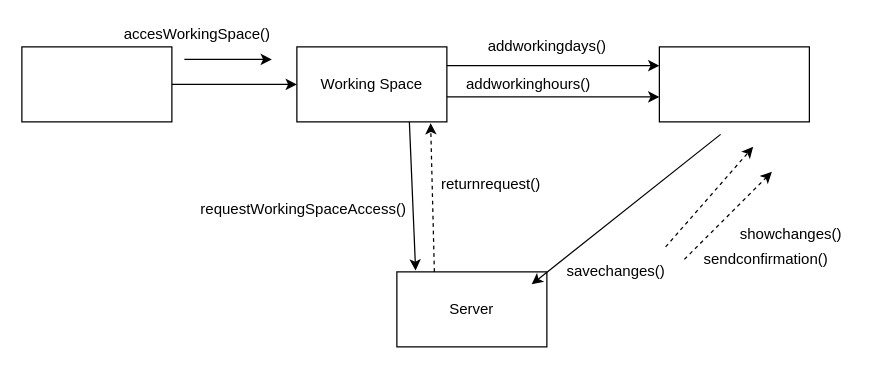
The diagram is 875 pixels wide and 369 high, and some of its shapes have lost their labels. Here are the shapes that lost their labels. From the top down, the box of each, then its label:
(21, 46, 172, 122): Staff Page
(658, 46, 809, 122): Equipment
